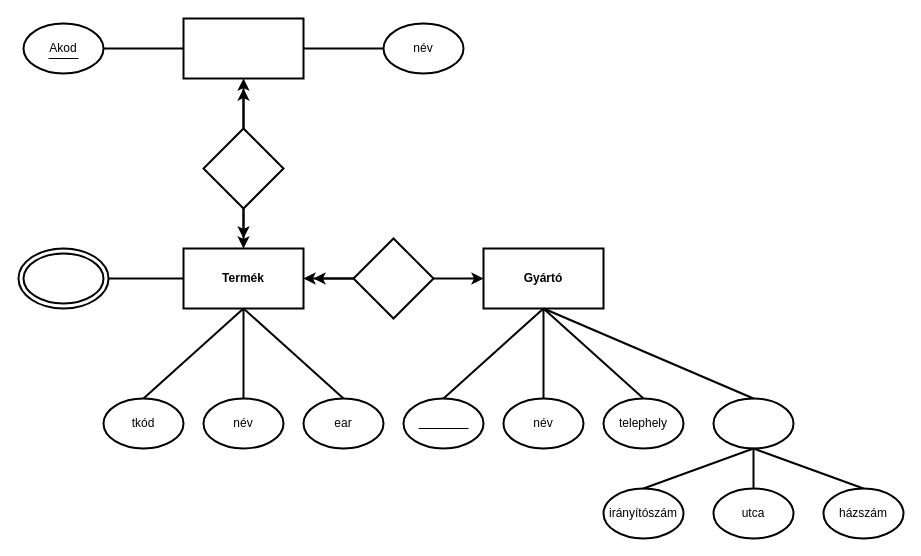
Some shapes in this 921 by 556 pixel diagram are drawn without their labels. The shapes that lost their labels are listed below. From the top down, each one's box as (x1, y1, x2, y2) in pixels, then its label:
(182, 17, 304, 79): Alkatrész
(202, 127, 284, 209): A-T
(22, 252, 104, 304): egység-db
(352, 237, 434, 319): T-GY
(402, 397, 484, 449): adószám
(712, 397, 794, 449): postai cím
